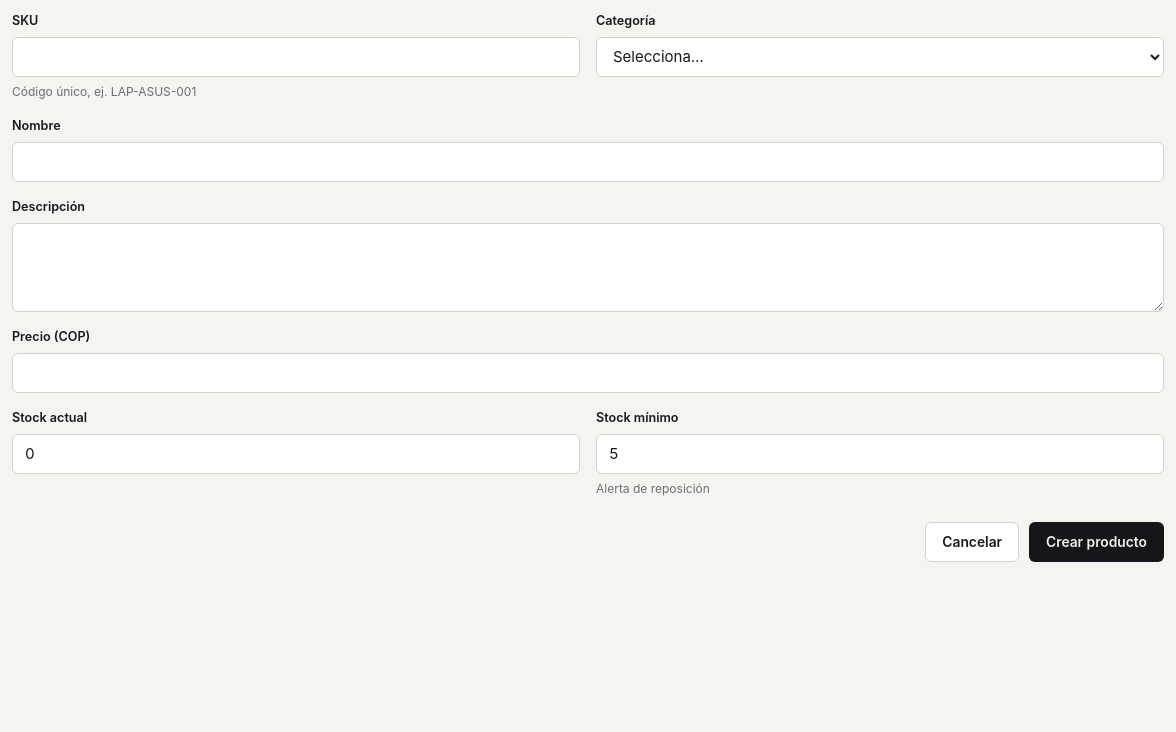
Scenario: <ProductForm /> › muestra el mensaje del servidor si la API rechaza el producto
Type "MON-777" into the field labelled "SKU".
click(296, 57); type("MON-777")  # box x1=12 y1=37 x2=580 y2=77
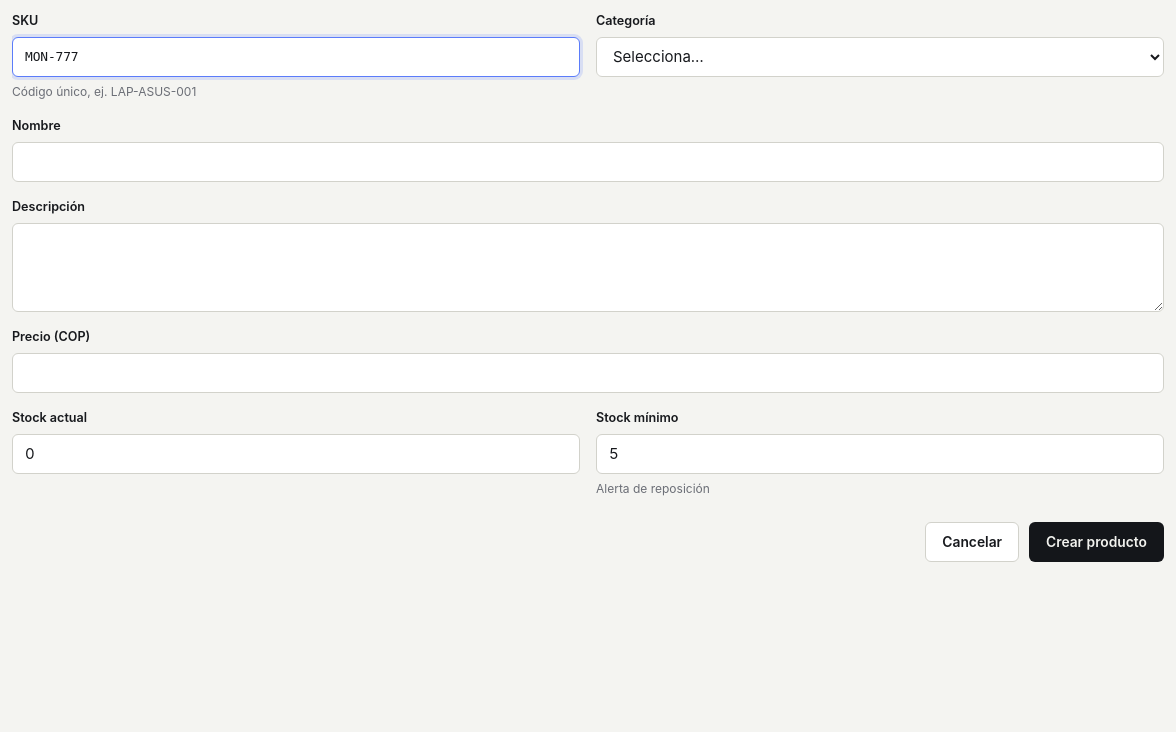
Select "Monitores" in the dropdown labelled "Categoría" at (880, 57), box x1=596 y1=37 x2=1164 y2=77
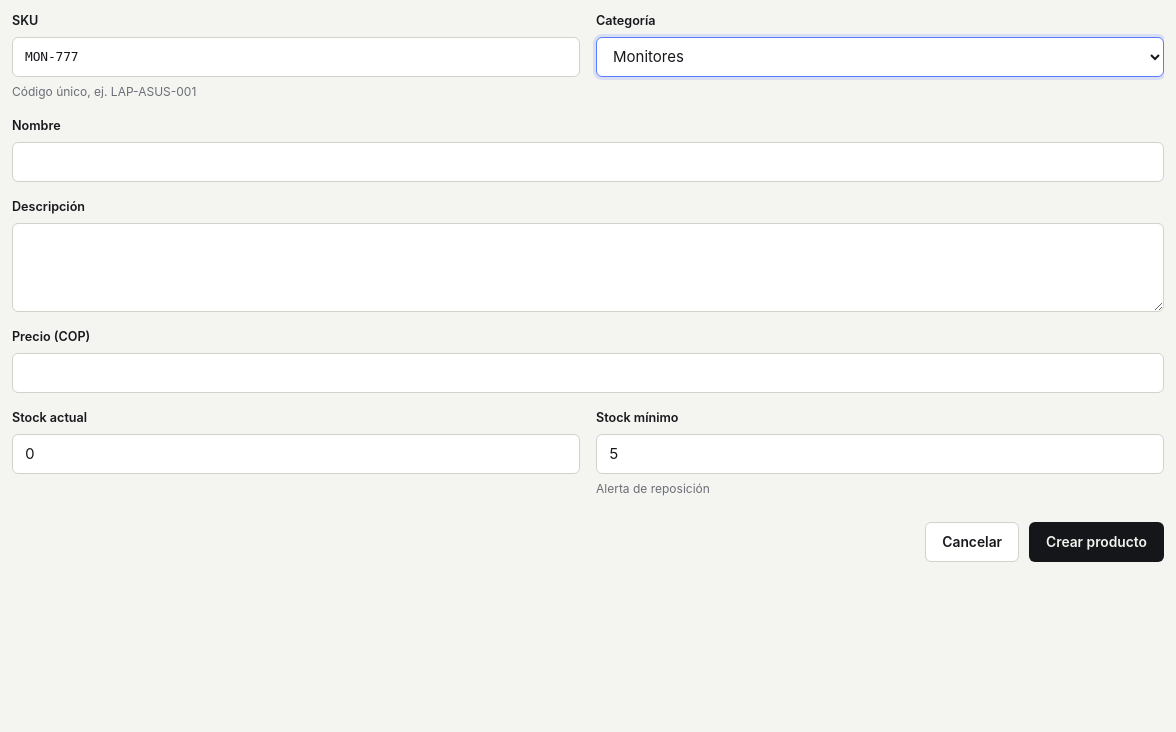
Type "Monitor" into the field labelled "Nombre".
click(588, 162); type("Monitor")  # box x1=12 y1=142 x2=1164 y2=182
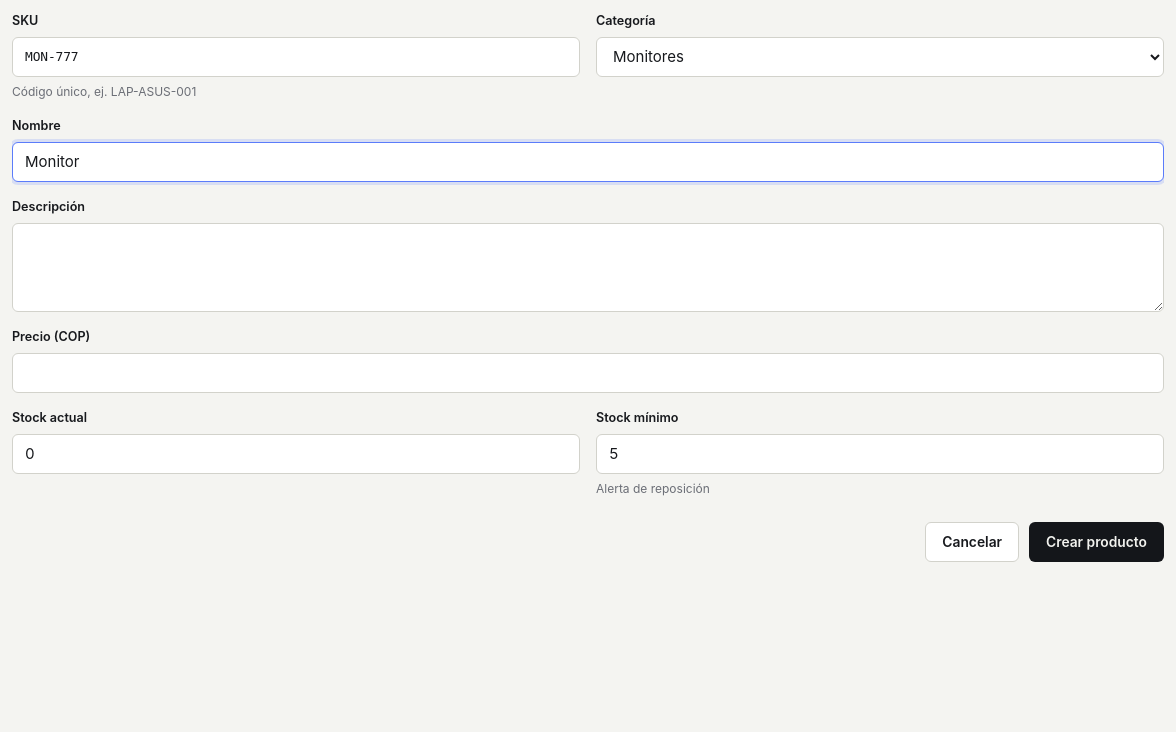
Type "1000" into the number field labelled "Precio (COP)".
click(588, 373); type("1000")  # box x1=12 y1=353 x2=1164 y2=393
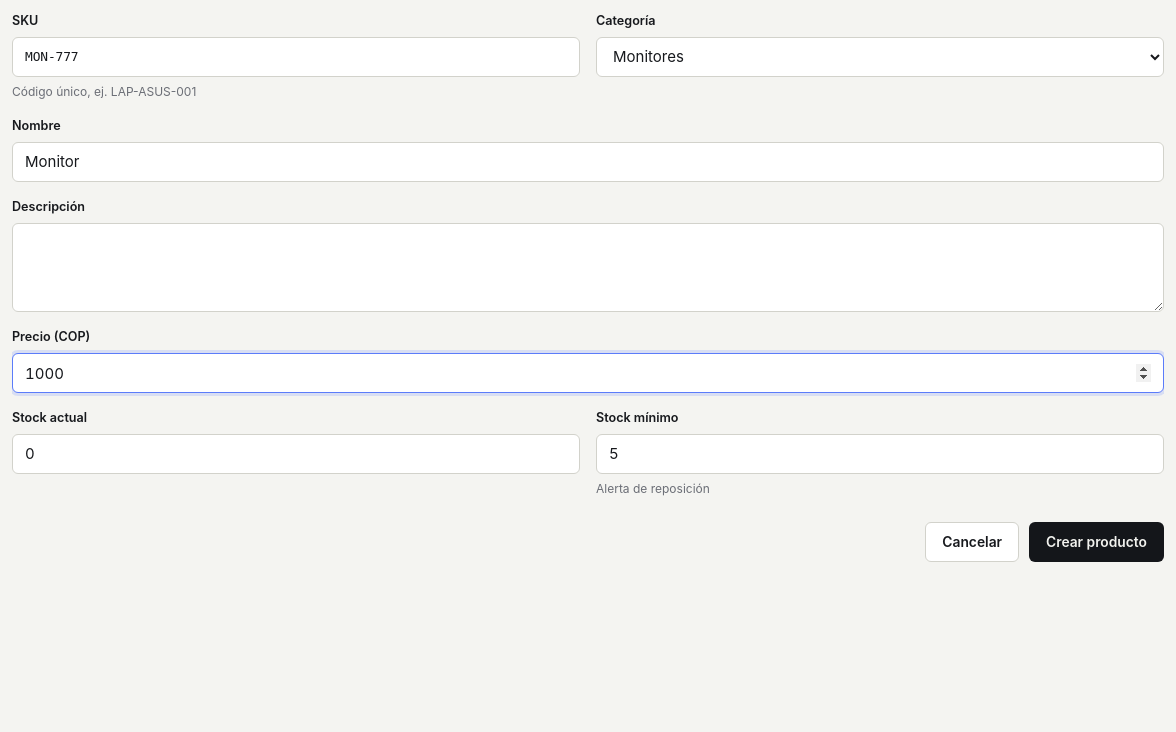
Click the button "Crear producto".
click(1097, 542)  # box x1=1029 y1=522 x2=1164 y2=562
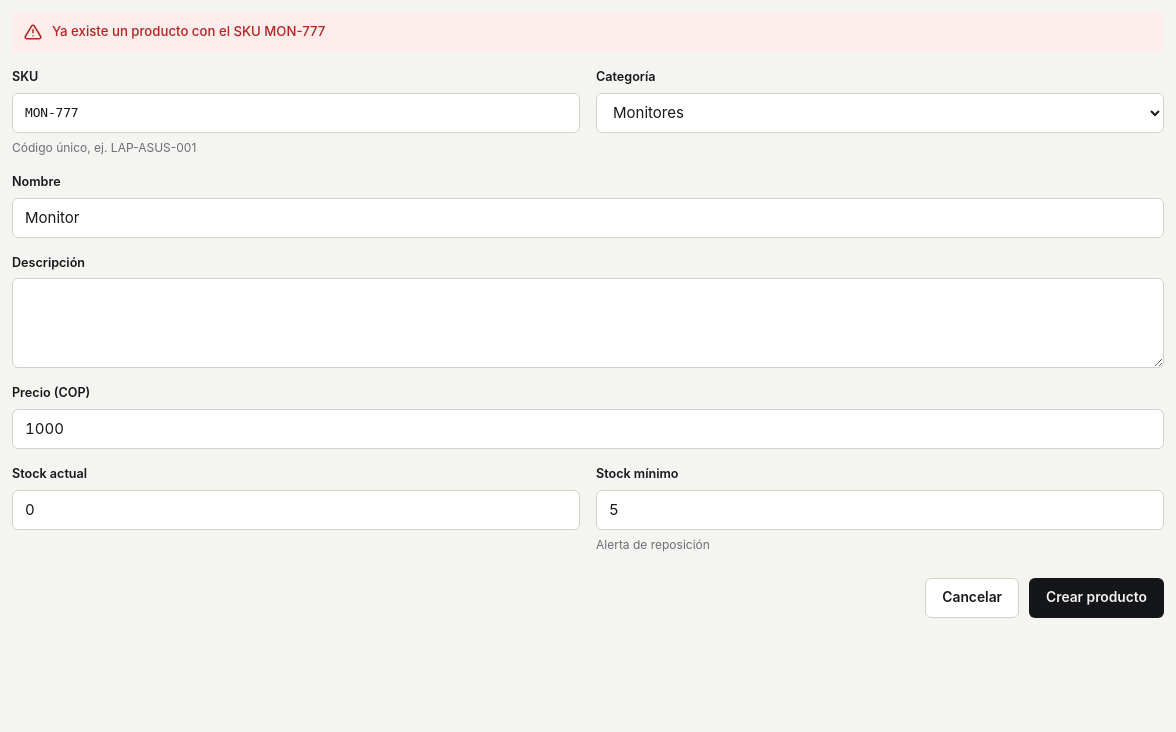
Expected: the message reads "Ya existe un producto con el SKU MON-777", x1=52 y1=23 x2=325 y2=39
